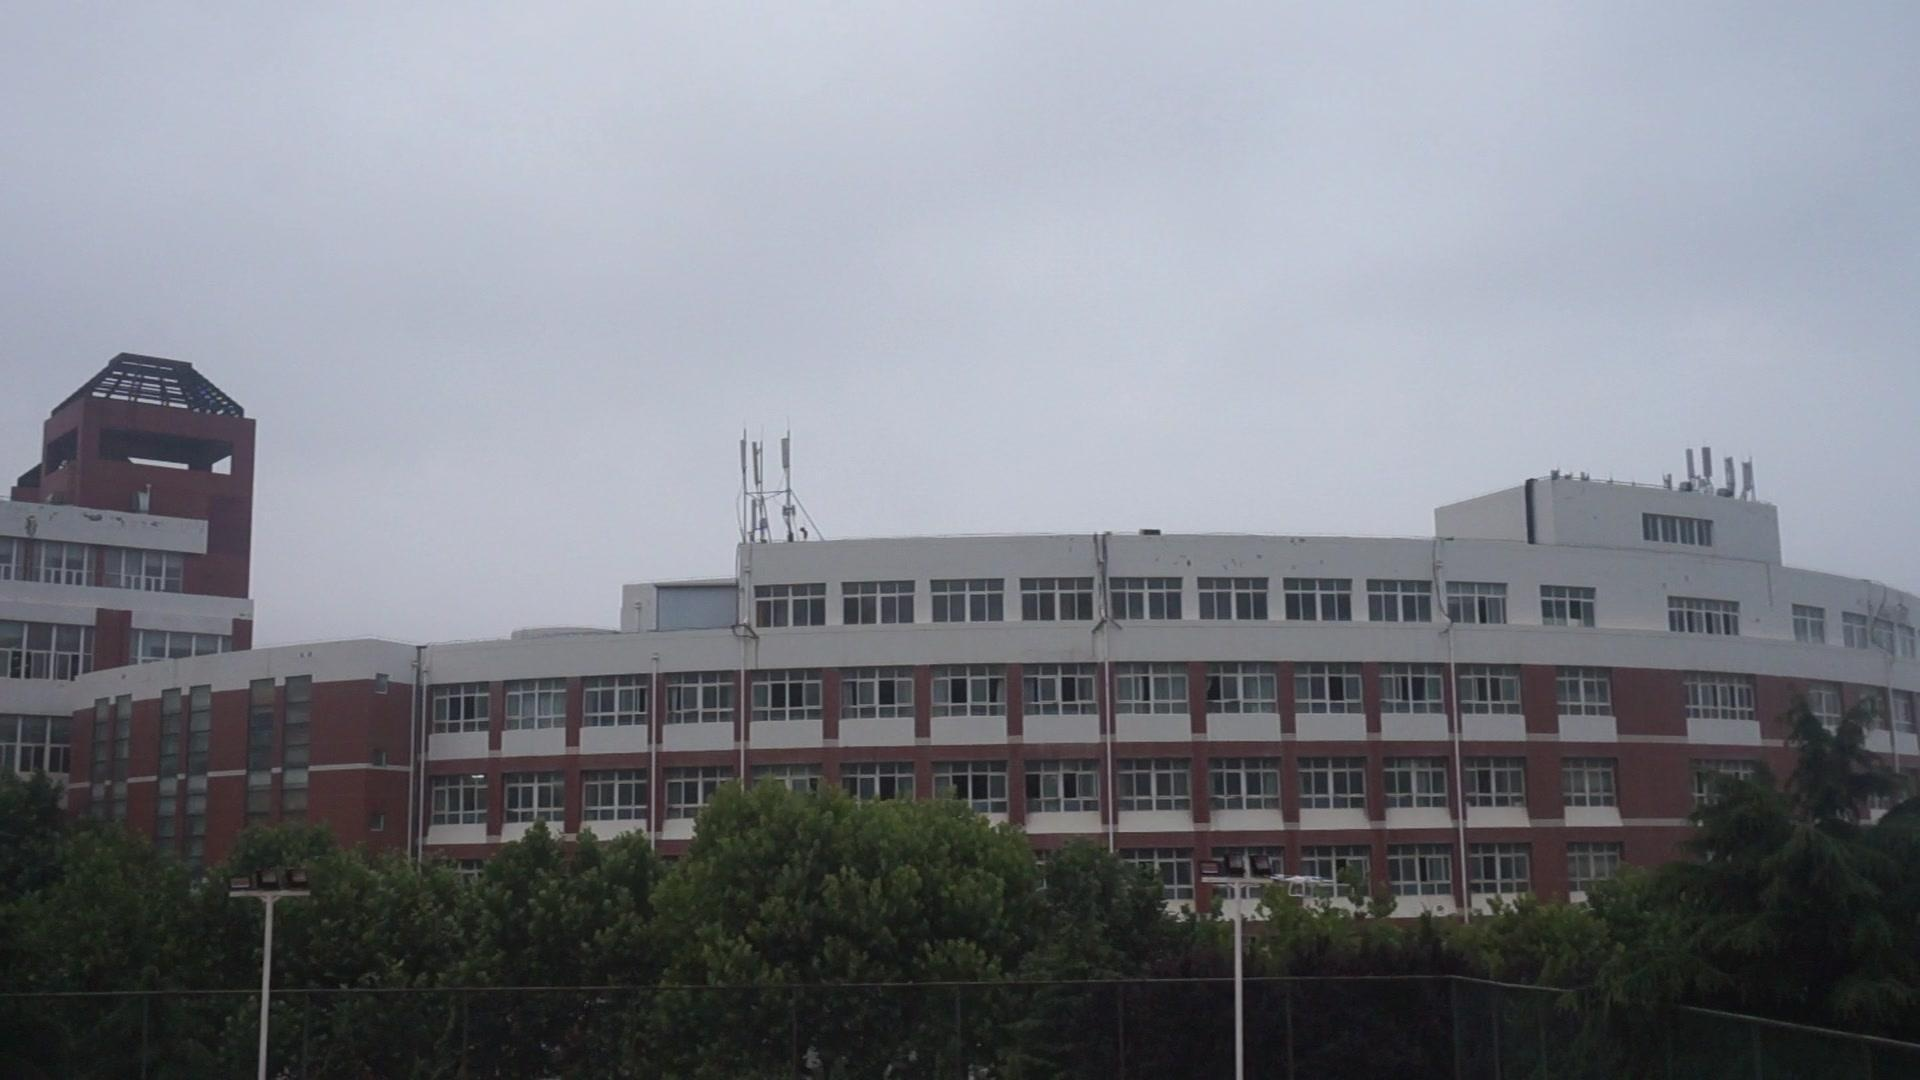UAV: (1270, 876, 1335, 898)
